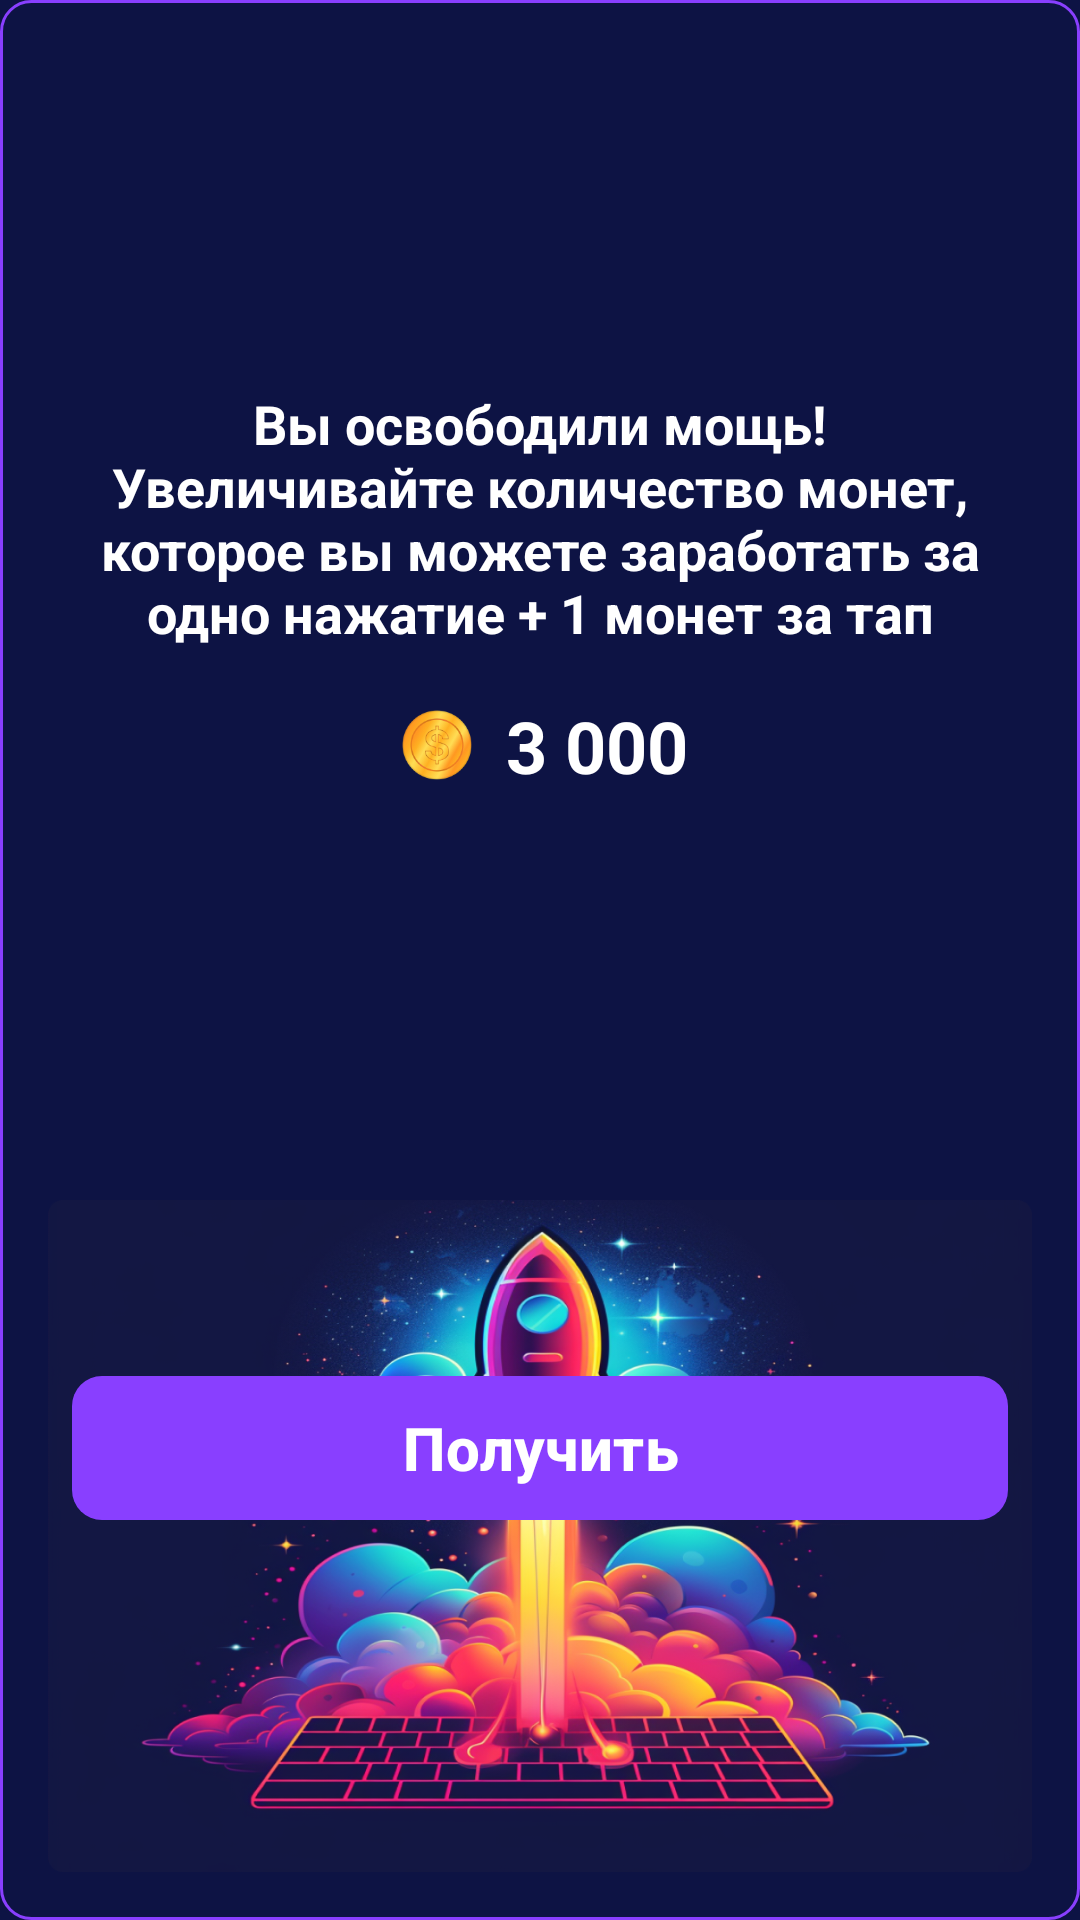

Named icons in this screenshot (1080w x 1920h) and their bounding boxes, rect(x1, y1, x2, y2):
coin: rect(402, 710, 472, 780)
